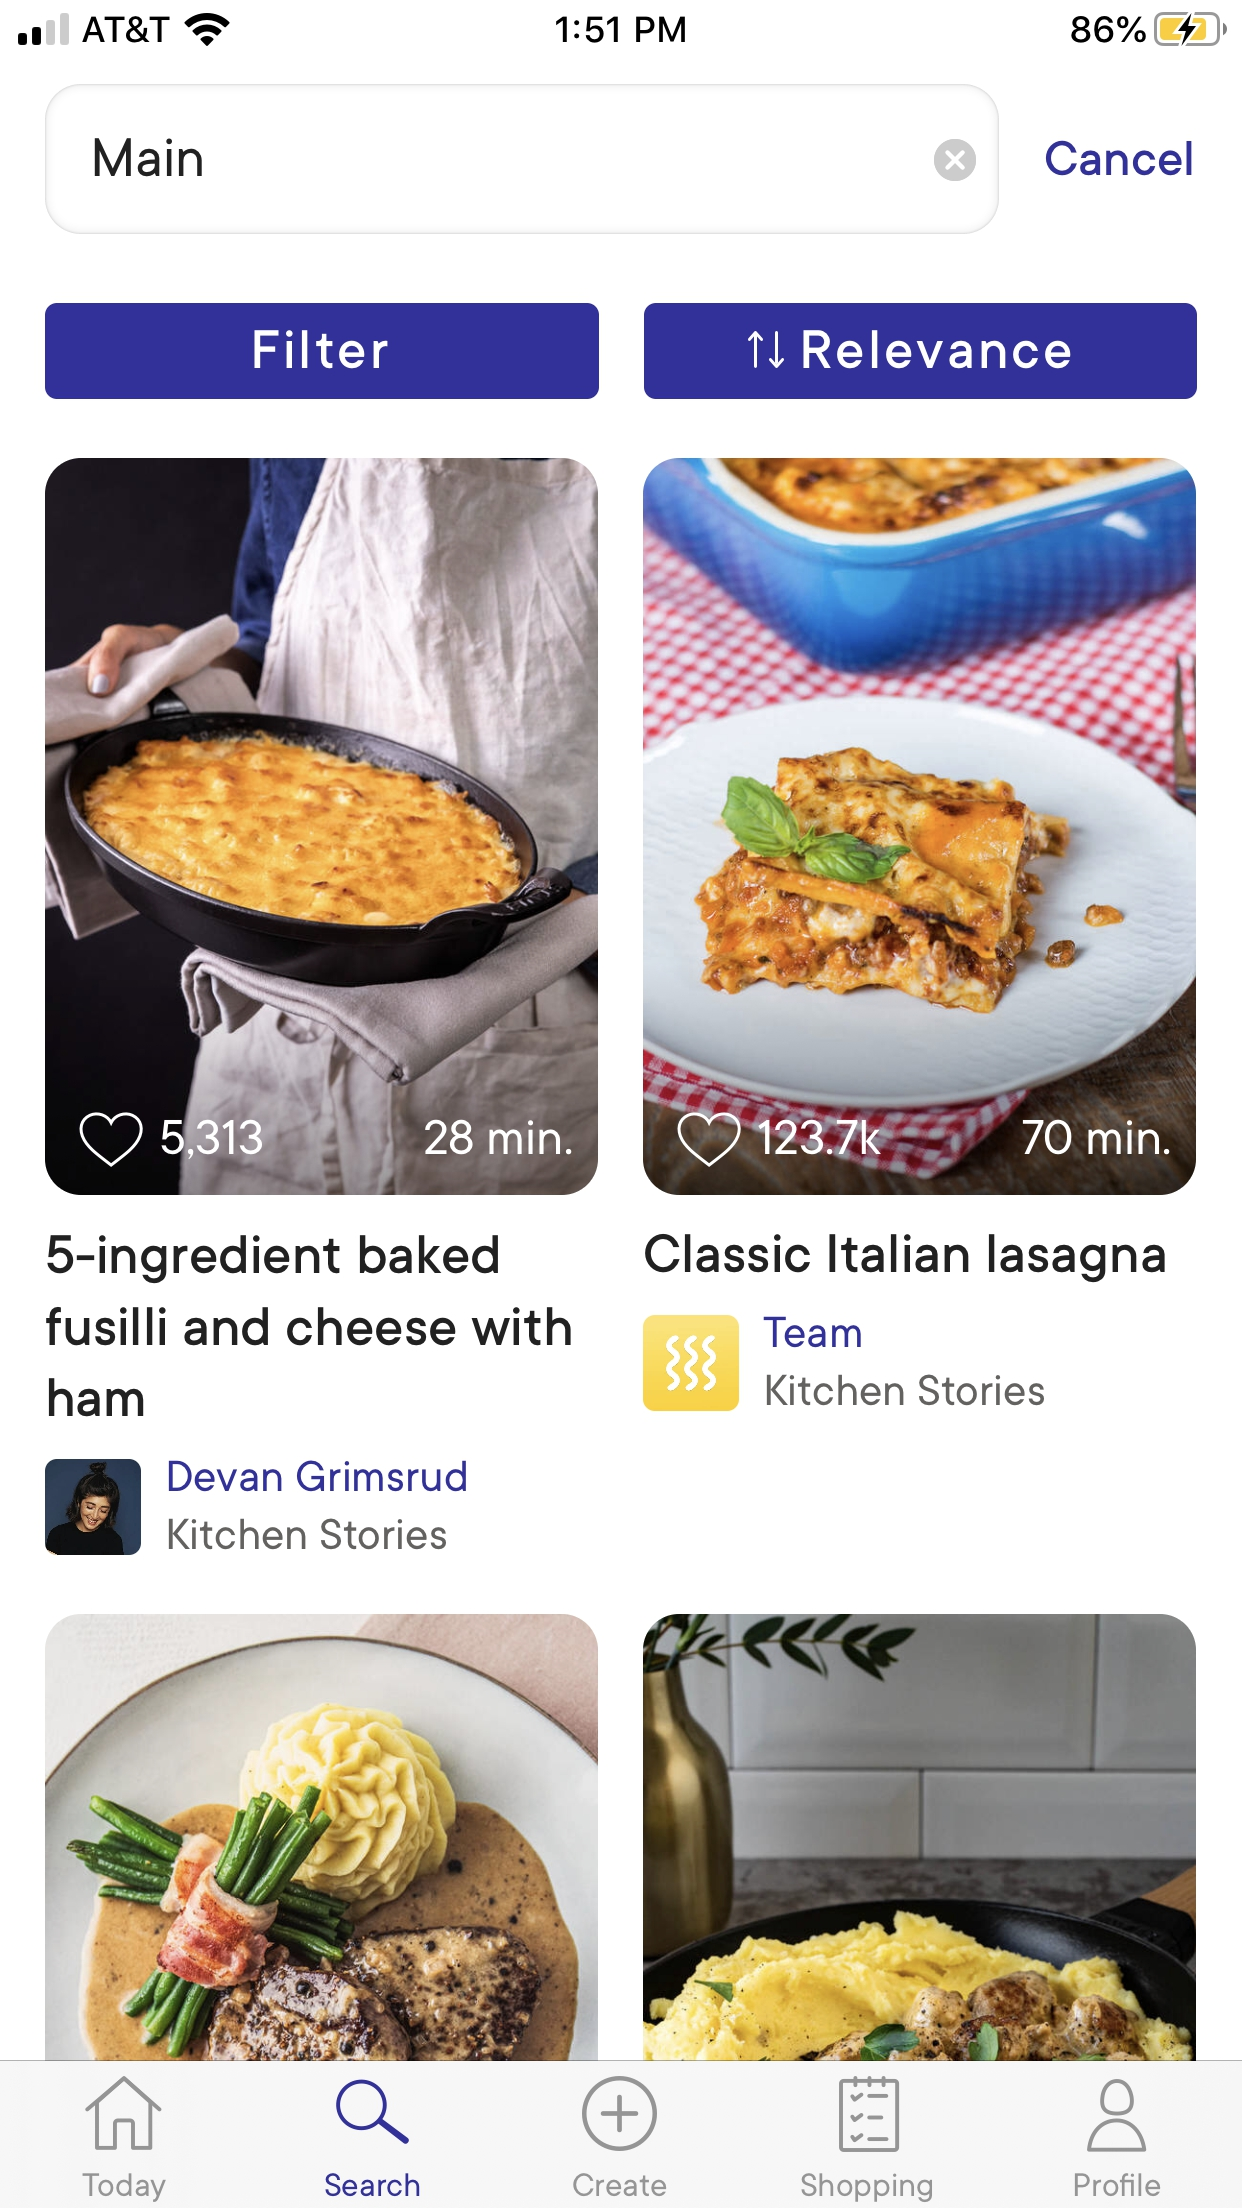EditText: (45, 83, 999, 235)
Icon: (581, 2075, 658, 2152), (85, 2075, 162, 2150), (337, 2078, 409, 2144), (839, 2075, 899, 2153), (1086, 2078, 1146, 2153), (80, 1112, 146, 1169), (676, 1112, 742, 1168), (934, 140, 977, 182)
Image: (45, 458, 599, 1197), (643, 459, 1197, 1197), (45, 1614, 599, 2062), (643, 1614, 1197, 2059), (45, 1459, 143, 1556), (643, 1315, 740, 1412)
Text: (47, 1234, 572, 1418), (645, 1231, 1166, 1284), (168, 1460, 469, 1494), (168, 1516, 447, 1550), (767, 1372, 1045, 1406), (1045, 140, 1192, 177), (425, 1119, 573, 1156), (1022, 1121, 1171, 1156), (757, 1119, 880, 1156), (161, 1118, 262, 1160), (801, 2172, 933, 2203), (96, 140, 205, 177), (763, 1316, 861, 1348), (83, 2172, 168, 2203), (325, 2172, 422, 2197), (573, 2172, 667, 2197), (1074, 2172, 1162, 2197)
TextButton: (45, 303, 601, 400), (645, 303, 1198, 400)
UpperTaskBar: (2, 2, 1242, 49)
